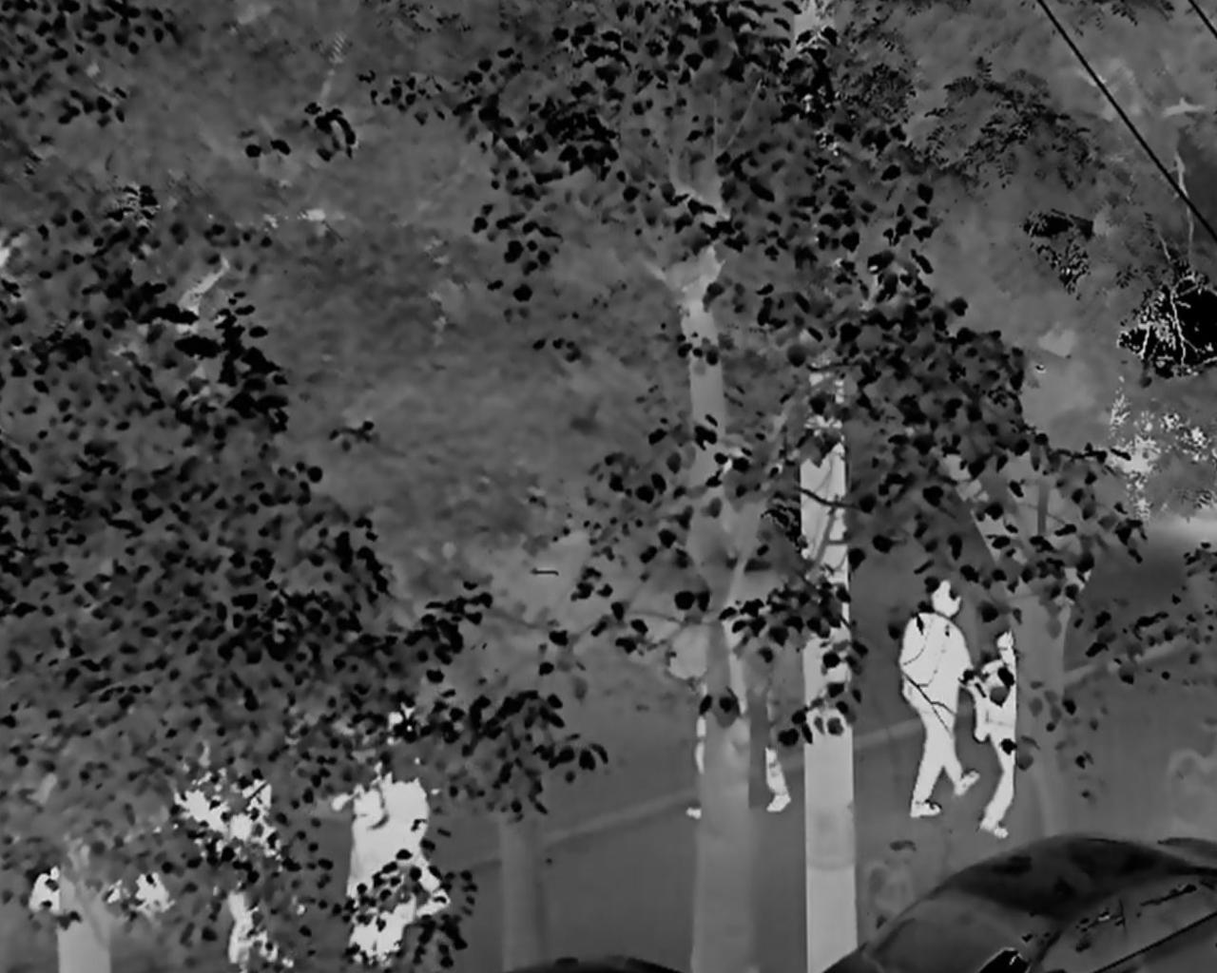person: (346, 708, 451, 943), (901, 581, 978, 826), (968, 633, 1033, 844)
